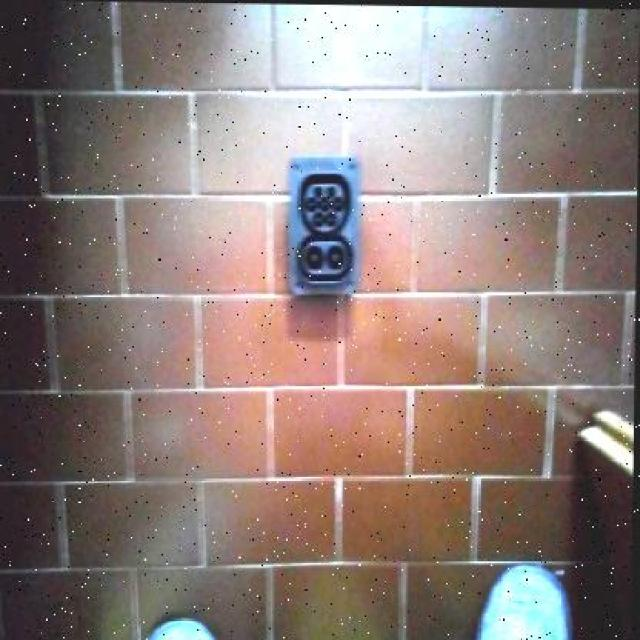CCS2: (282, 151, 372, 301)
